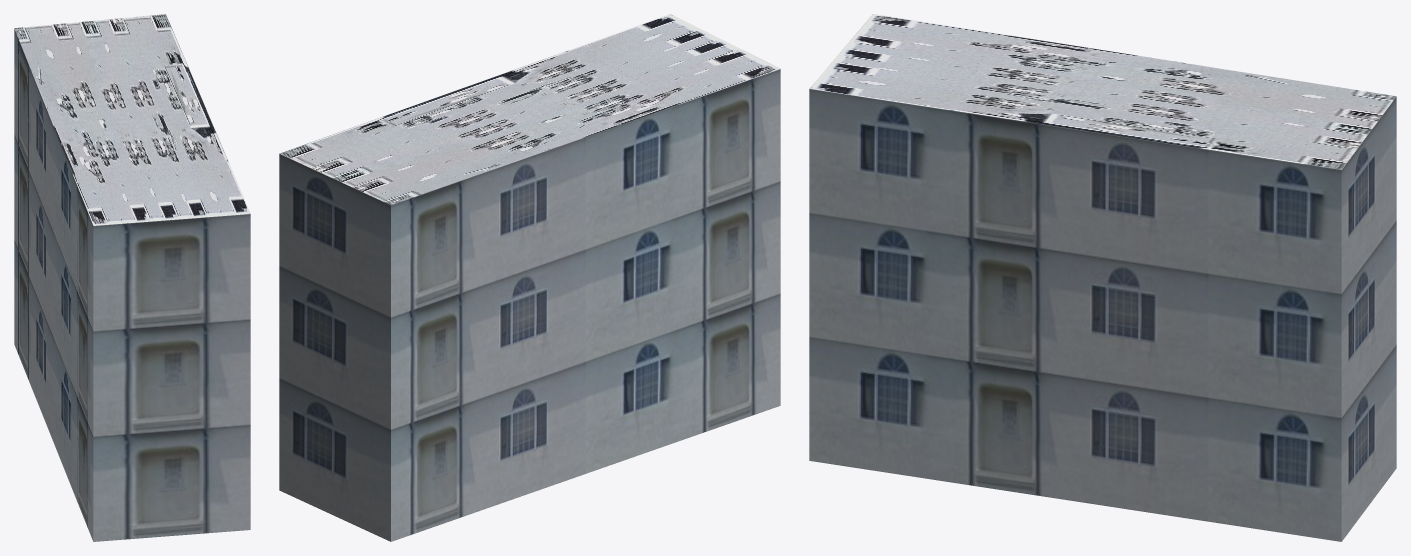
The model's file is ResTex__5096.fbx.
3 renders of one model, left to right at view 1: azimuth 30°, elevation 25°; view 2: azimuth 150°, elevation 25°; view 3: azimuth 270°, elevation 25°, orthographic. The views are drawn at different scales.
Visible parts, largest first — view 1: CityEngineMaterial_17_m, CityEngineMaterial_2_m; view 2: CityEngineMaterial_17_m, CityEngineMaterial_2_m; view 3: CityEngineMaterial_17_m, CityEngineMaterial_2_m.
Boxes of the visible parts, <box> form: CityEngineMaterial_17_m: <box>14,29,250,541</box>; CityEngineMaterial_2_m: <box>14,14,250,225</box>; CityEngineMaterial_17_m: <box>279,69,780,541</box>; CityEngineMaterial_2_m: <box>279,14,780,204</box>; CityEngineMaterial_17_m: <box>809,89,1396,541</box>; CityEngineMaterial_2_m: <box>809,14,1396,169</box>.
Bounding box in the file's own units: 8.1 × 9 × 12.88.
Materials: 2 (2 with a texture image).
